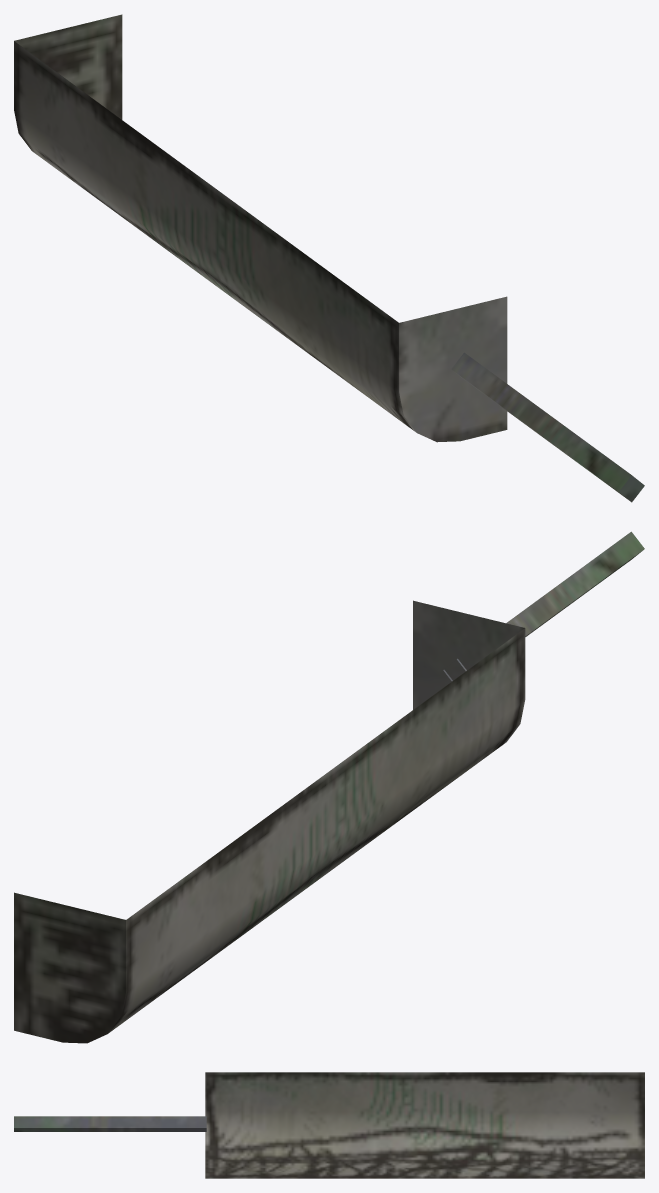
The model's file is condey.fbx.
The picture shows the model from 3 angles, top to bottom: view 1: azimuth 30°, elevation 25°; view 2: azimuth 150°, elevation 25°; view 3: azimuth 270°, elevation 25°; orthographic projection. The views are drawn at different scales.
Parts seen in each view (by area): view 1: Room.005; view 2: Room.005; view 3: Room.005.
Part boxes in pixels (x1=…): Room.005: x1=14, y1=14, x2=644, y2=502; Room.005: x1=14, y1=531, x2=644, y2=1043; Room.005: x1=14, y1=1072, x2=644, y2=1178.
Bounding box in the file's own units: 20.61 × 24.21 × 182.
